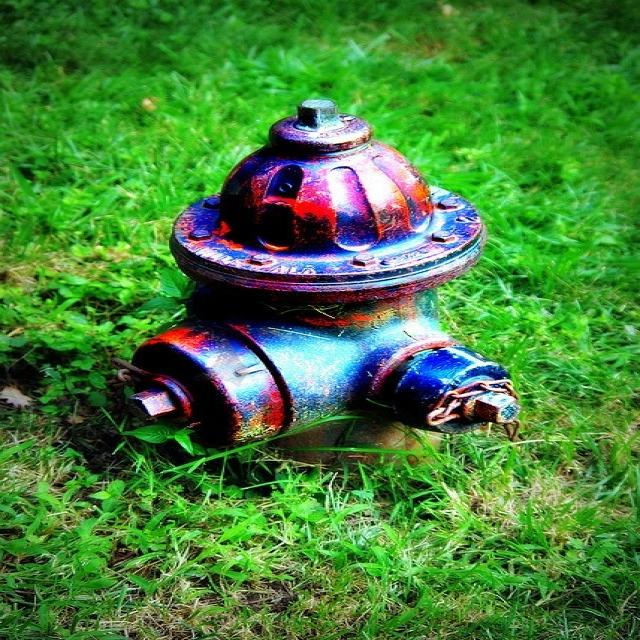fire_hydrant: (94, 69, 568, 490)
